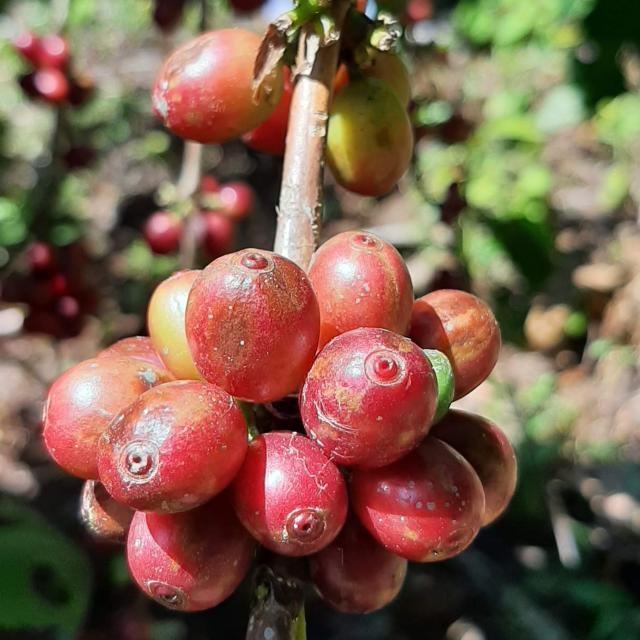red: (185, 248, 320, 404), (97, 381, 248, 515), (300, 328, 438, 469), (350, 436, 486, 563), (126, 493, 257, 613), (42, 358, 169, 480), (231, 432, 348, 557), (308, 231, 414, 351), (309, 509, 408, 615), (430, 410, 518, 527), (410, 289, 502, 400), (242, 65, 293, 155), (78, 480, 134, 544), (96, 336, 165, 369)
yellow: (152, 28, 283, 143), (326, 77, 414, 196), (147, 270, 203, 381)
